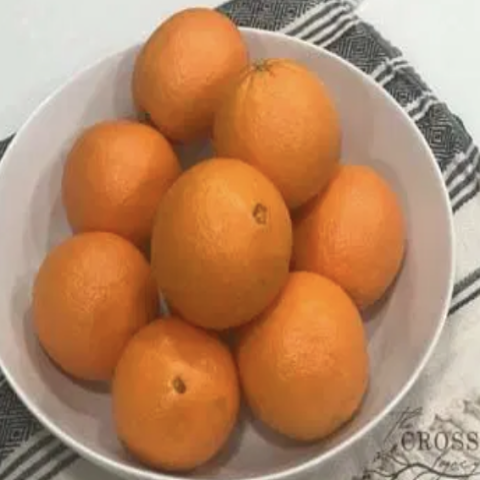orange: (147, 153, 298, 328), (266, 147, 431, 301), (230, 262, 369, 443), (104, 299, 240, 474), (11, 226, 162, 379), (127, 0, 257, 136)
